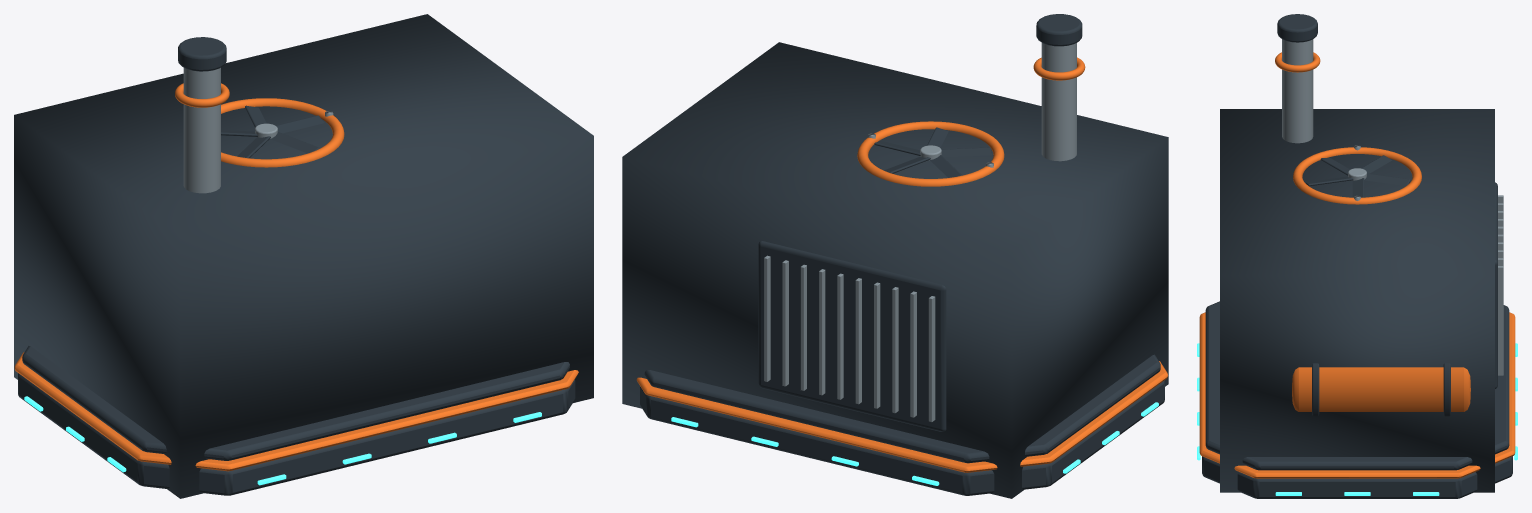
File: generator.glb
3 views of the same model, side by side, from view 1: azimuth 30°, elevation 25°; view 2: azimuth 150°, elevation 25°; view 3: azimuth 270°, elevation 25° (orthographic). The views are drawn at different scales.
Parts seen in each view (by area): view 1: COL_body, plinth, deck, plinth lip, exhaust, fan ring, exhaust cap, exhaust ring; view 2: COL_body, radiator, plinth, deck, plinth lip, exhaust, fan ring, exhaust cap, radiator fin 0, radiator fin 3, radiator fin 1, radiator fin 4 (+6 smaller); view 3: COL_body, fuel tank, deck, plinth, plinth lip, exhaust, fan ring, exhaust cap, radiator fin 9, radiator, exhaust ring, tank strap 0.75 (+1 smaller).
Part boxes in pixels (x1,y1,x2,y2): COL_body: (14,14,593,498); plinth: (18,373,575,495); deck: (22,346,569,460); plinth lip: (14,352,578,471); exhaust: (183,67,220,193); fan ring: (221,98,344,167); exhaust cap: (178,37,226,71); exhaust ring: (175,83,229,107); COL_body: (622,42,1168,498); radiator: (758,241,946,431); plinth: (640,380,1164,495); deck: (644,354,1160,463); plinth lip: (636,361,1168,472); exhaust: (1041,43,1076,161); fan ring: (857,121,1004,186); exhaust cap: (1036,14,1082,46); radiator fin 0: (928,296,935,421); radiator fin 3: (874,282,880,408); radiator fin 1: (910,291,916,417); radiator fin 4: (855,278,861,404); COL_body: (1220,109,1494,492); fuel tank: (1292,367,1470,411); deck: (1205,301,1509,470); plinth: (1202,456,1512,498); plinth lip: (1199,312,1515,478); exhaust: (1282,39,1313,143); fan ring: (1293,147,1421,204); exhaust cap: (1277,14,1317,42); radiator fin 9: (1498,266,1503,375); radiator: (1495,182,1497,388); exhaust ring: (1275,52,1320,72); tank strap 0.75: (1443,363,1450,416).
Bounding box in the file's own units: 3.68 × 3.06 × 2.68.
